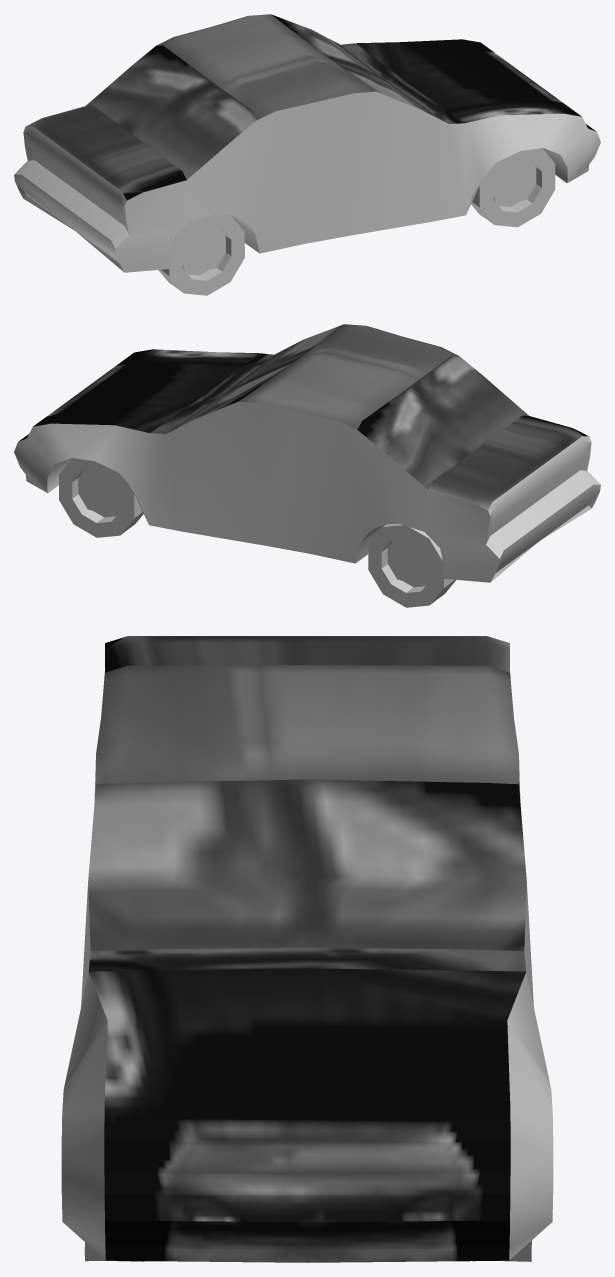
The model's file is Car.fbx.
3 renders of one model, top to bottom at view 1: azimuth 30°, elevation 25°; view 2: azimuth 150°, elevation 25°; view 3: azimuth 270°, elevation 25°, orthographic. The views are drawn at different scales.
Parts seen in each view (by area): view 1: sides, car, back, tire.004, tire.001; view 2: sides, car, back, tire.003, tire.002; view 3: car, sides.
Part boxes in pixels (x1,y1,x2,y2): sides: (115,91,600,272); car: (26,14,596,200); back: (14,126,128,271); tire.004: (158,213,244,295); tire.001: (471,148,555,227); sides: (14,401,499,582); car: (18,324,588,510); back: (486,436,600,581); tire.003: (368,523,455,607); tire.002: (59,458,143,537); car: (88,636,526,1262); sides: (61,760,553,1259).
Size of the model in its own units: 473 by 165 by 207.
